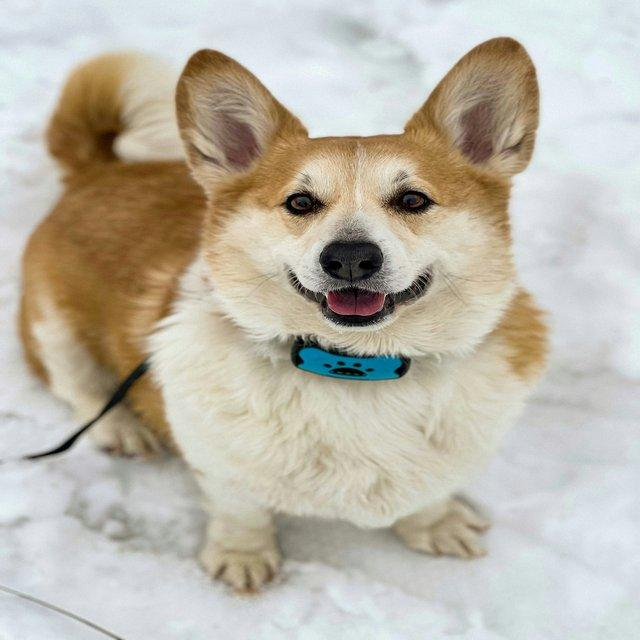corgi: (16, 35, 552, 595)
